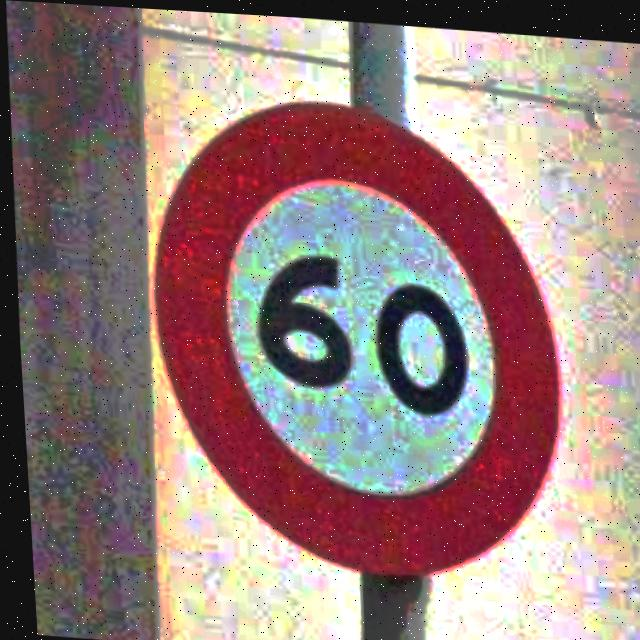max60: (132, 83, 573, 585)
